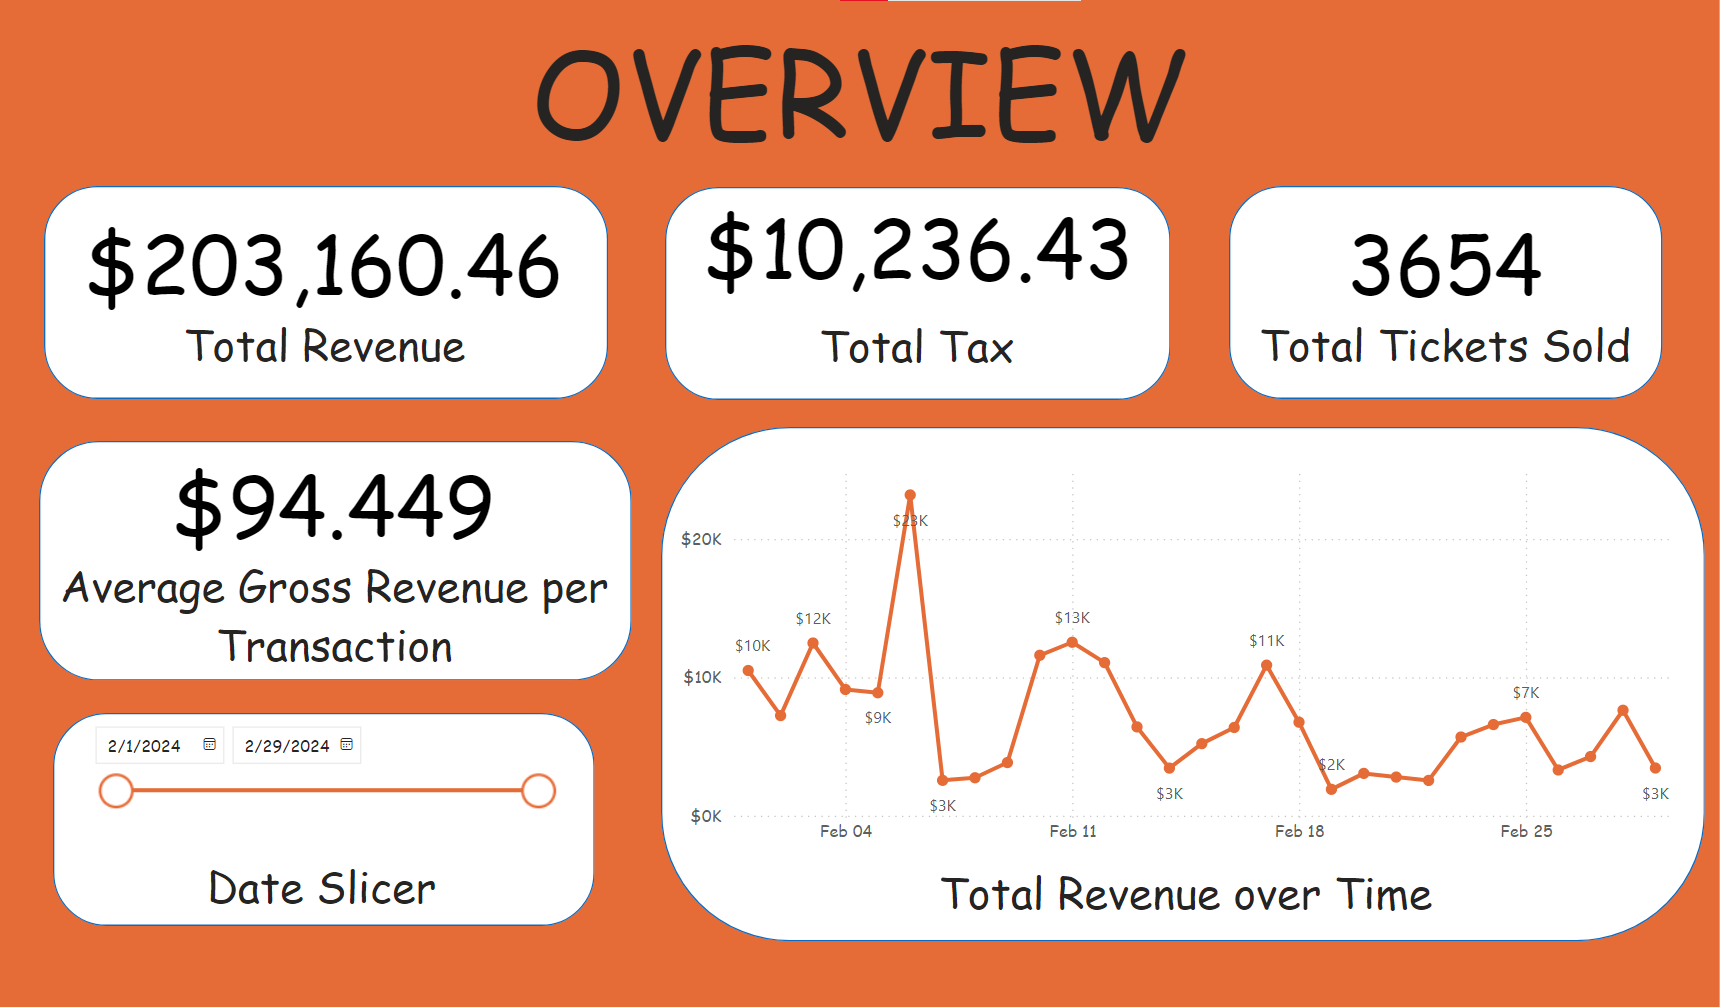

Layout of this report page (visuals, bound fields, positions):
{"tool":"powerbi","page":{"name":"Overview Dashboard","canvas":[1280,720],"ordinal":0},"visuals":[{"type":"textbox","box":[0,0,1279.3,138.8],"z":0},{"type":"shape","box":[32.8,138.8,420.1,158.6],"z":0,"group":"g3"},{"type":"group","id":"g1","title":"Group 1","box":[470.6,138.8,423.7,158.6],"z":0,"group":"g10"},{"type":"shape","box":[495.3,138.8,376.5,158.6],"z":0,"group":"g1"},{"type":"shape","box":[915.5,138.8,322.7,158.6],"z":0,"group":"g7"},{"type":"shape","box":[492.5,318.3,777.4,383],"z":0,"group":"g11"},{"type":"shape","box":[29.2,328.7,441.4,178.4],"z":0,"group":"g12"},{"type":"group","id":"g2","title":"Group 2","box":[12,531,455,158.6],"z":0,"group":"g14"},{"type":"shape","box":[39.5,531,403.4,158.6],"z":0,"group":"g8"},{"type":"card","fields":{"Values":["Sum(Data.Tax Collected)"]},"box":[505.4,126.3,356.8,110.6],"z":1000,"group":"g10"},{"type":"group","id":"g3","title":"Group 1","box":[5.2,138.8,472.7,158.6],"z":1000,"group":"g5"},{"type":"group","id":"g4","title":"Group 2","box":[894.3,138.8,363.1,158.6],"z":1000},{"type":"textbox","box":[5.2,228.9,472.7,68.6],"z":1000,"group":"g3"},{"type":"textbox","box":[470.6,228.9,423.7,68.6],"z":1000,"group":"g1"},{"type":"textbox","box":[894.3,228.9,363.1,68.6],"z":1000,"group":"g7"},{"type":"textbox","box":[0,408,497.7,102.3],"z":1000,"group":"g12"},{"type":"slicer","fields":{"Values":["Data.Record Date"]},"box":[58.5,531.1,364.2,96],"z":1000,"group":"g14"},{"type":"textbox","box":[12,632.2,455,57.4],"z":1000,"group":"g8"},{"type":"group","id":"g5","title":"Group 3","box":[5.2,138.8,472.7,158.6],"z":2000},{"type":"card","fields":{"Values":["Sum(Data.Gross Revenue)"]},"box":[43.9,138.8,395.3,110.6],"z":2000,"group":"g5"},{"type":"textbox","box":[517,637.3,731.8,69.2],"z":2000,"group":"g13"},{"type":"group","id":"g6","title":"Group 4","box":[470.6,126.3,423.7,171.1],"z":3000},{"type":"group","id":"g7","title":"Group 1","box":[894.3,138.8,363.1,158.6],"z":3000,"group":"g4"},{"type":"group","id":"g8","title":"Group 1","box":[12,531,455,158.6],"z":3000,"group":"g2"},{"type":"card","fields":{"Values":["Sum(Data.Ticket Quantity)"]},"box":[964.2,138.8,223.3,110.6],"z":4000,"group":"g4"},{"type":"group","id":"g9","title":"Group 5","box":[0,318.3,497.7,192],"z":4000},{"type":"group","id":"g10","title":"Group 6","box":[470.6,126.3,423.7,171.1],"z":4001,"group":"g6"},{"type":"group","id":"g11","title":"Group 7","box":[492.5,318.3,777.4,387.9],"z":5000},{"type":"group","id":"g12","title":"Group 1","box":[0,328.7,497.7,181.6],"z":5000,"group":"g9"},{"type":"group","id":"g13","title":"Group 1","box":[517,637.3,731.5,68.9],"z":5000,"group":"g11"},{"type":"card","fields":{"Values":["Data.Average Transaction Value"]},"box":[39.2,318.3,417.4,110.6],"z":6000,"group":"g9"},{"type":"lineChart","fields":{"Y":["Sum(Data.Gross Revenue)"],"Category":["Data.Record Date.Variation.Date Hierarchy.Year","Data.Record Date.Variation.Date Hierarchy.Quarter","Data.Record Date.Variation.Date Hierarchy.Month","Data.Record Date.Variation.Date Hierarchy.Day"]},"box":[500.9,336,756.5,301.6],"z":6000},{"type":"group","id":"g14","title":"Group 8","box":[12,531,455,158.6],"z":7002}]}

Visuals, with their boxes on the page's 1280x720 design canvas (x1, y1, x2, y2). These are canvas units, not pixel positions in the 1720x1007 screenshot, which may show the page scaled, cropped or inside an application window:
textbox: BBox(0, 0, 1279, 139)
shape: BBox(33, 139, 453, 297)
"Group 1" group: BBox(471, 139, 894, 297)
shape: BBox(495, 139, 872, 297)
shape: BBox(916, 139, 1238, 297)
shape: BBox(492, 318, 1270, 701)
shape: BBox(29, 329, 471, 507)
"Group 2" group: BBox(12, 531, 467, 690)
shape: BBox(40, 531, 443, 690)
card - Sum(Data.Tax Collected): BBox(505, 126, 862, 237)
"Group 1" group: BBox(5, 139, 478, 297)
"Group 2" group: BBox(894, 139, 1257, 297)
textbox: BBox(5, 229, 478, 298)
textbox: BBox(471, 229, 894, 298)
textbox: BBox(894, 229, 1257, 298)
textbox: BBox(0, 408, 498, 510)
slicer - Data.Record Date: BBox(58, 531, 423, 627)
textbox: BBox(12, 632, 467, 690)
"Group 3" group: BBox(5, 139, 478, 297)
card - Sum(Data.Gross Revenue): BBox(44, 139, 439, 249)
textbox: BBox(517, 637, 1249, 706)
"Group 4" group: BBox(471, 126, 894, 297)
"Group 1" group: BBox(894, 139, 1257, 297)
"Group 1" group: BBox(12, 531, 467, 690)
card - Sum(Data.Ticket Quantity): BBox(964, 139, 1188, 249)
"Group 5" group: BBox(0, 318, 498, 510)
"Group 6" group: BBox(471, 126, 894, 297)
"Group 7" group: BBox(492, 318, 1270, 706)
"Group 1" group: BBox(0, 329, 498, 510)
"Group 1" group: BBox(517, 637, 1248, 706)
card - Data.Average Transaction Value: BBox(39, 318, 457, 429)
lineChart - Sum(Data.Gross Revenue) x Data.Record Date.Variation.Date Hierarchy.Year: BBox(501, 336, 1257, 638)
"Group 8" group: BBox(12, 531, 467, 690)
